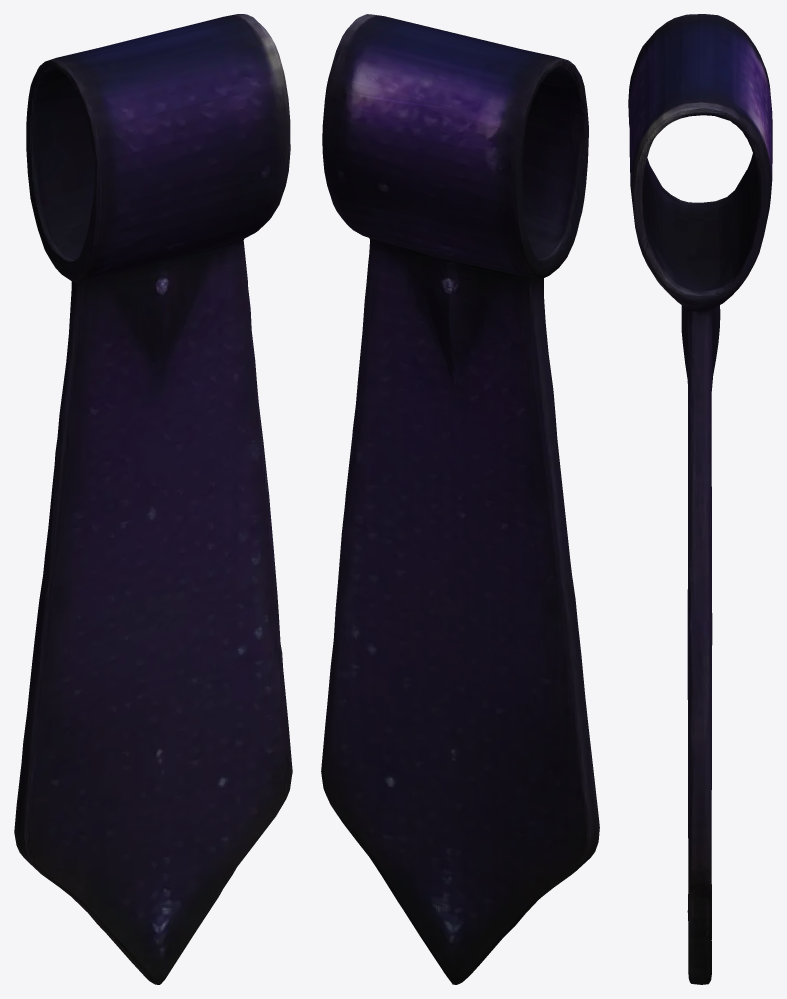
The model's file is tie_blue_dark.glb.
3 views of the same model, side by side, from view 1: azimuth 30°, elevation 25°; view 2: azimuth 150°, elevation 25°; view 3: azimuth 270°, elevation 25° (orthographic).
Parts seen in each view (by area): view 1: geometry_0; view 2: geometry_0; view 3: geometry_0.
Boxes of the visible parts, box(x1,y1,x2,y2) form: geometry_0: box(14, 14, 292, 984); geometry_0: box(321, 14, 599, 984); geometry_0: box(628, 14, 772, 984).
Bounding box in the file's own units: 0.3003 × 0.9998 × 0.1413.
1 material, 1 textured.
